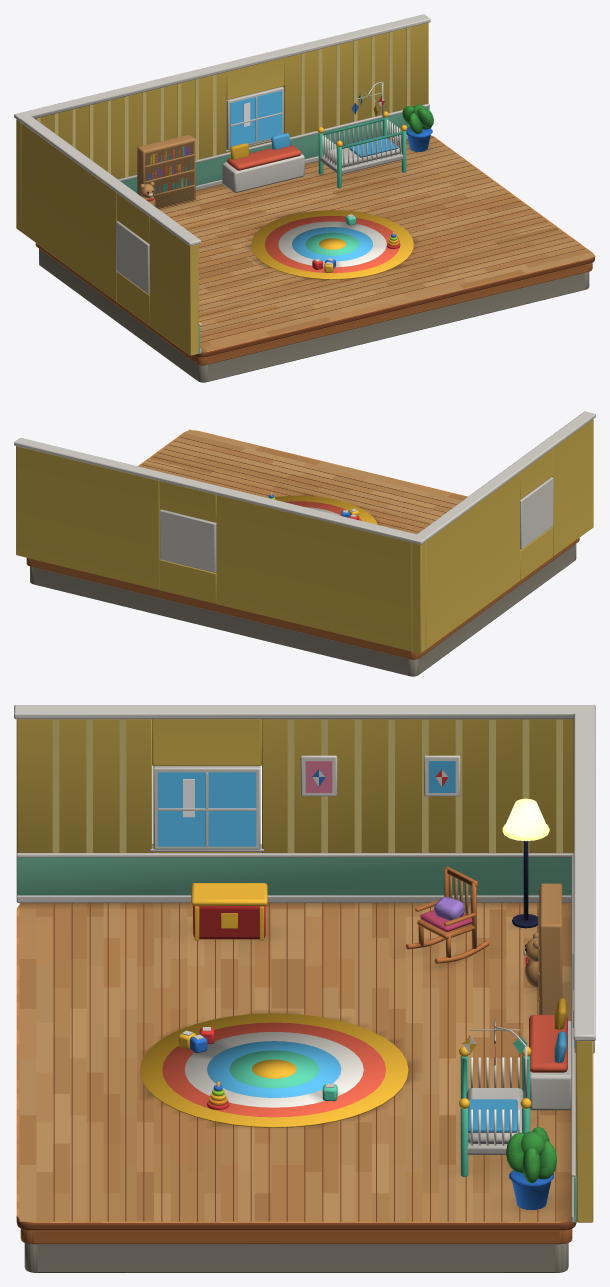
File: nursery.glb
3 views of the same model, one above another, from view 1: azimuth 30°, elevation 25°; view 2: azimuth 150°, elevation 25°; view 3: azimuth 270°, elevation 25° (orthographic). The views are drawn at different scales.
Parts seen in each view (by area): view 1: nursery_Satin, nursery_Matte, nursery_Gloss; view 2: nursery_Satin, nursery_Matte; view 3: nursery_Satin, nursery_Matte, nursery_Gloss, nursery_Glow_warm.
Part boxes in pixels (left/top/right/bottom): nursery_Satin: left=14, top=14, right=595, bottom=382; nursery_Matte: left=159, top=135, right=594, bottom=357; nursery_Gloss: left=147, top=90, right=432, bottom=272; nursery_Satin: left=14, top=411, right=595, bottom=676; nursery_Matte: left=138, top=430, right=467, bottom=532; nursery_Satin: left=14, top=705, right=595, bottom=1272; nursery_Matte: left=16, top=902, right=576, bottom=1230; nursery_Gloss: left=157, top=772, right=574, bottom=1210; nursery_Glow_warm: left=502, top=798, right=549, bottom=841.
Bounding box in the file's own units: 14 × 4.78 × 10.4.
